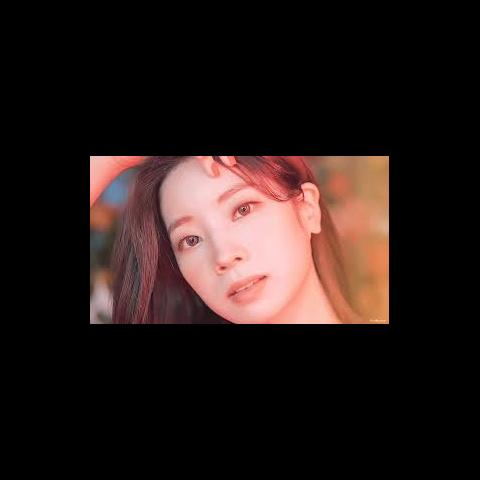opened: (159, 200, 267, 254)
